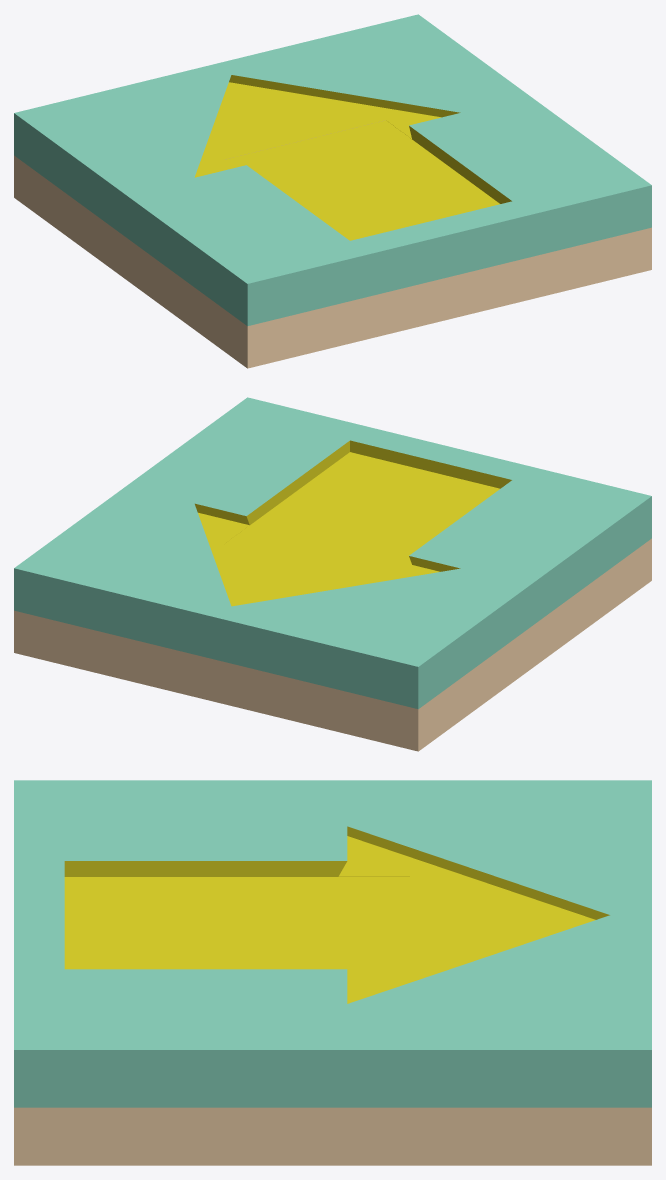
File: Arrow.fbx
The picture shows the model from 3 angles, top to bottom: view 1: azimuth 30°, elevation 25°; view 2: azimuth 150°, elevation 25°; view 3: azimuth 270°, elevation 25°; orthographic projection. The views are drawn at different scales.
Visible parts, largest first — view 1: ArrowTile; view 2: ArrowTile; view 3: ArrowTile.
Boxes of the visible parts, x1,y1,x2,y2 form: ArrowTile: (14, 14, 651, 368); ArrowTile: (14, 397, 651, 751); ArrowTile: (14, 780, 651, 1165).
Bounding box in the file's own units: 100 × 20 × 100.
